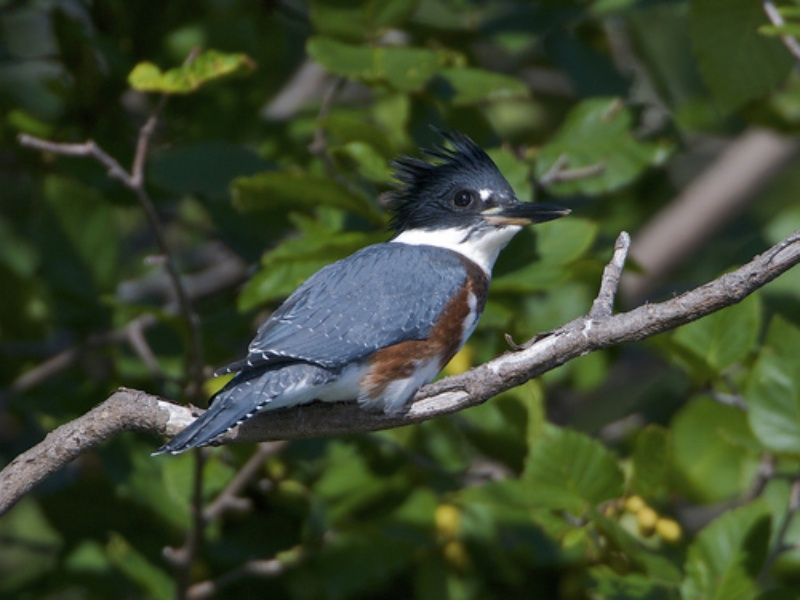kingfisher: (151, 116, 578, 469)
